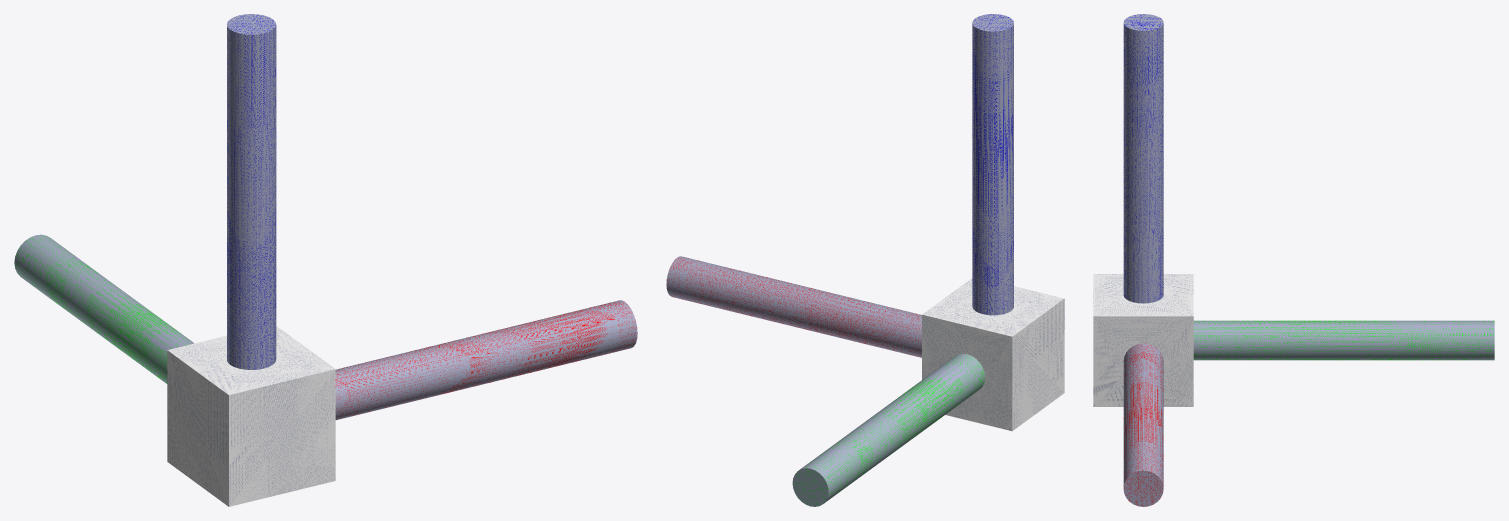
The model's file is coordenadas.obj.
3 views of the same model, side by side, from view 1: azimuth 30°, elevation 25°; view 2: azimuth 150°, elevation 25°; view 3: azimuth 270°, elevation 25° (orthographic). The views are drawn at different scales.
Parts seen in each view (by area): view 1: Mesh1 Model; view 2: Mesh1 Model; view 3: Mesh1 Model.
Part boxes in pixels (x1,y1,x2,y2): Mesh1 Model: [14, 14, 637, 506]; Mesh1 Model: [666, 14, 1064, 506]; Mesh1 Model: [1093, 14, 1494, 506].
Size of the model in its own units: 4 by 4 by 4.
